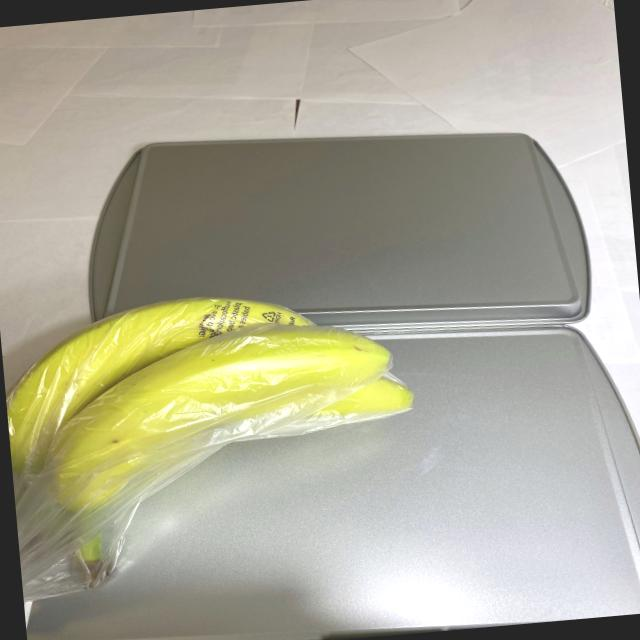banana: (4, 270, 434, 607)
